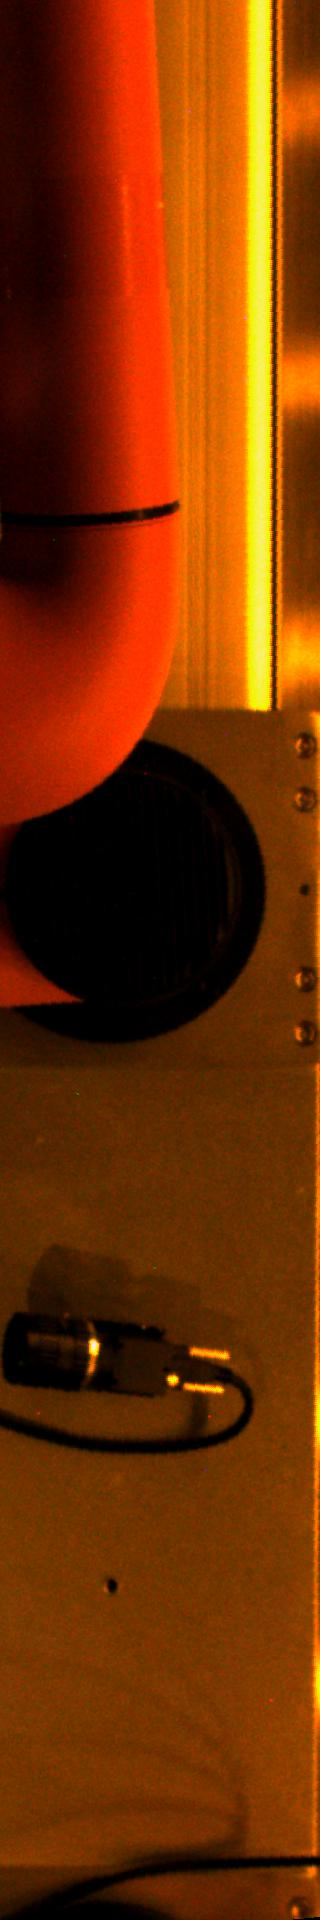keyPoint_2: (97, 1571, 128, 1600)
